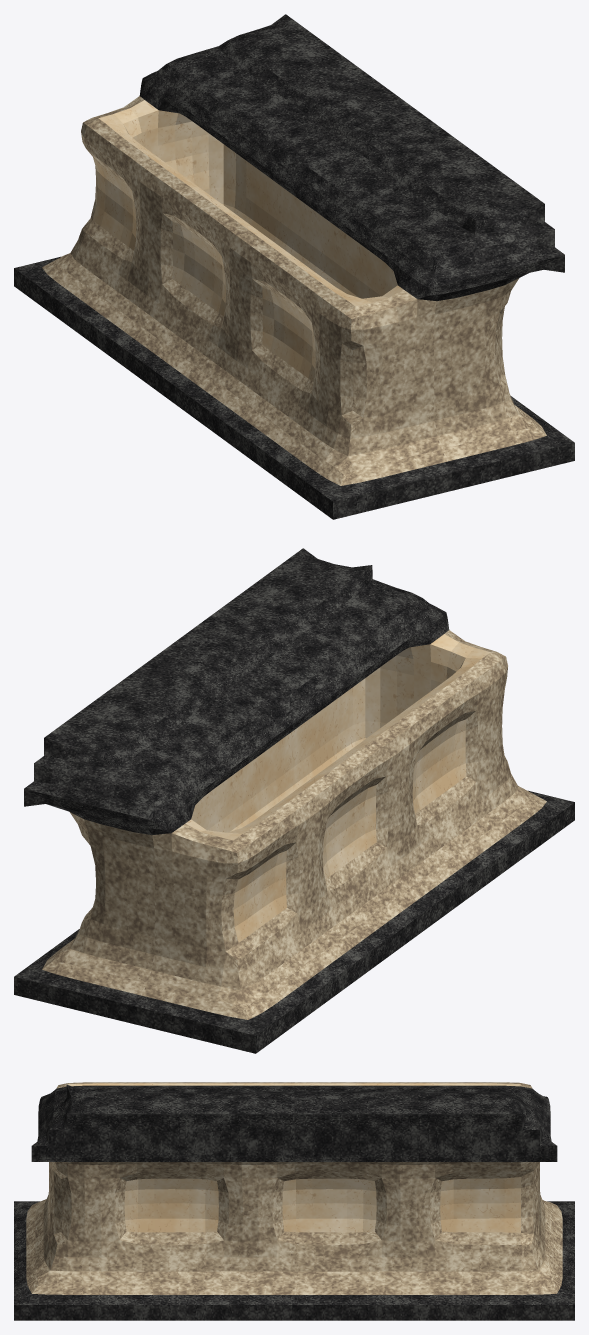
Rendered from sarcophagus_open.glb.
The picture shows the model from 3 angles, top to bottom: view 1: azimuth 30°, elevation 25°; view 2: azimuth 150°, elevation 25°; view 3: azimuth 270°, elevation 25°; orthographic projection. The views are drawn at different scales.
Visible parts, largest first — view 1: crypt_sarcophagus_open; view 2: crypt_sarcophagus_open; view 3: crypt_sarcophagus_open.
Part boxes in pixels (<box>): crypt_sarcophagus_open: <box>14,14,574,519</box>; crypt_sarcophagus_open: <box>14,548,574,1053</box>; crypt_sarcophagus_open: <box>14,1082,574,1320</box>.
Bounding box in the file's own units: 0.875 × 0.8125 × 2.
Materials: 1 (1 with a texture image).
